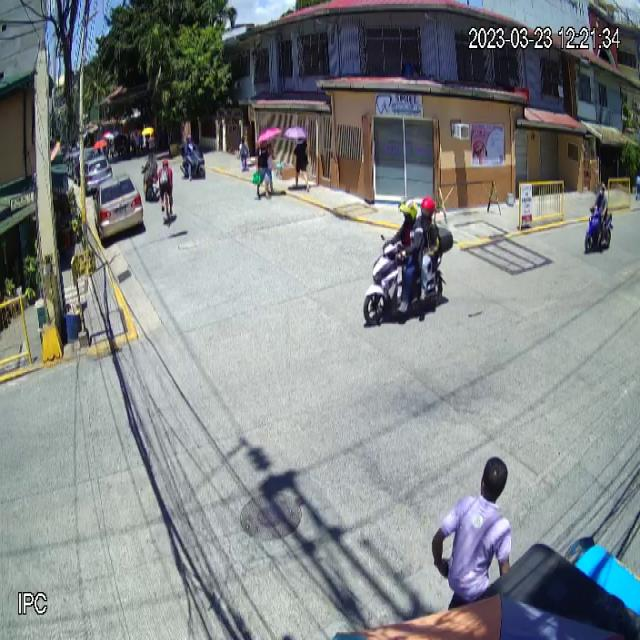Car: (92, 173, 144, 242)
Tricycle: (362, 222, 454, 326)
